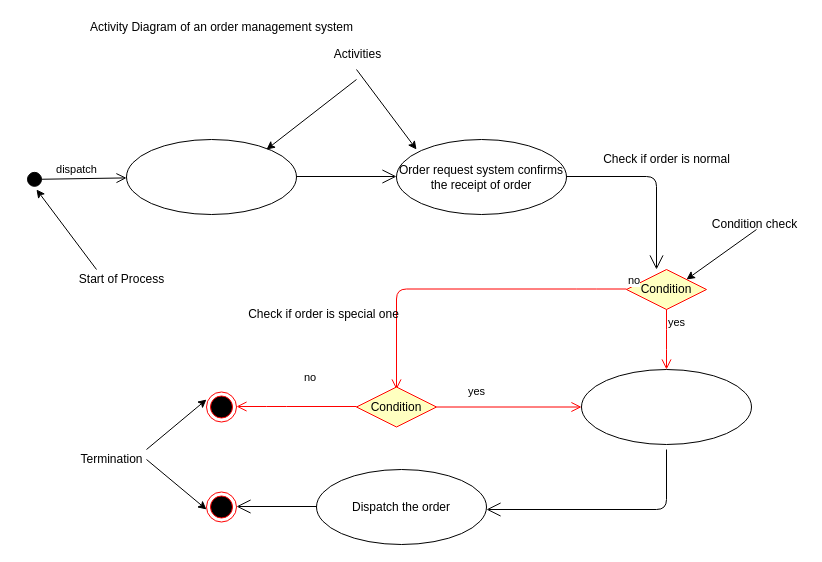
This 822x562 diagram has some shape labels left out. Each missing label, with the box of its shape:
Confirm the order: (580, 368, 752, 444)
Customer sends an order request: (126, 138, 296, 214)
